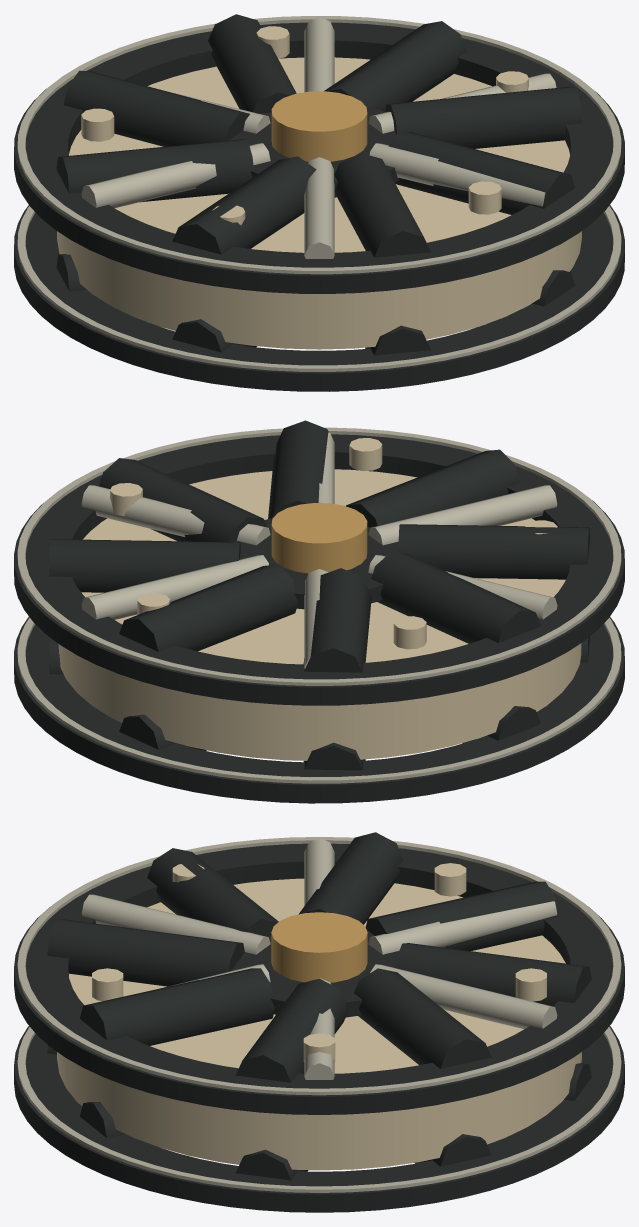
File: Executive.glb
The picture shows the model from 3 angles, top to bottom: view 1: azimuth 30°, elevation 25°; view 2: azimuth 150°, elevation 25°; view 3: azimuth 270°, elevation 25°; orthographic projection.
Parts seen in each view (by area): view 1: Stamped outer rim (×2), Pressed web (×12), Wound correction stock, Pressed lip (×2), Raised spoke (×6), Spindle, Take-up pin (×4), Spool hub; view 2: Stamped outer rim (×2), Pressed web (×11), Wound correction stock, Pressed lip (×2), Raised spoke (×6), Spindle, Take-up pin (×3), Spool hub; view 3: Stamped outer rim (×2), Pressed web (×12), Wound correction stock, Pressed lip (×2), Raised spoke (×5), Spindle, Take-up pin (×4), Spool hub.
Boxes of the visible parts, <box> form: Stamped outer rim (×2): <box>14,22,624,391</box>; Pressed web (×12): <box>56,14,582,355</box>; Wound correction stock: <box>57,57,581,349</box>; Pressed lip (×2): <box>17,16,621,371</box>; Raised spoke (×6): <box>81,17,556,258</box>; Spindle: <box>271,91,367,161</box>; Take-up pin (×4): <box>81,26,528,214</box>; Spool hub: <box>229,108,399,197</box>; Stamped outer rim (×2): <box>14,434,624,803</box>; Pressed web (×11): <box>49,420,589,770</box>; Wound correction stock: <box>58,469,581,760</box>; Pressed lip (×2): <box>17,427,621,783</box>; Raised spoke (×6): <box>81,432,557,668</box>; Spindle: <box>271,503,367,573</box>; Take-up pin (×3): <box>110,438,426,649</box>; Spool hub: <box>233,518,415,609</box>; Stamped outer rim (×2): <box>14,843,624,1212</box>; Pressed web (×12): <box>47,832,591,1180</box>; Wound correction stock: <box>57,878,581,1170</box>; Pressed lip (×2): <box>17,837,621,1192</box>; Raised spoke (×5): <box>81,838,557,1079</box>; Spindle: <box>271,912,367,982</box>; Take-up pin (×4): <box>92,863,546,1061</box>; Spool hub: <box>231,930,398,1017</box>.
Size of the model in its own units: 0.85 by 0.253 by 0.85.
